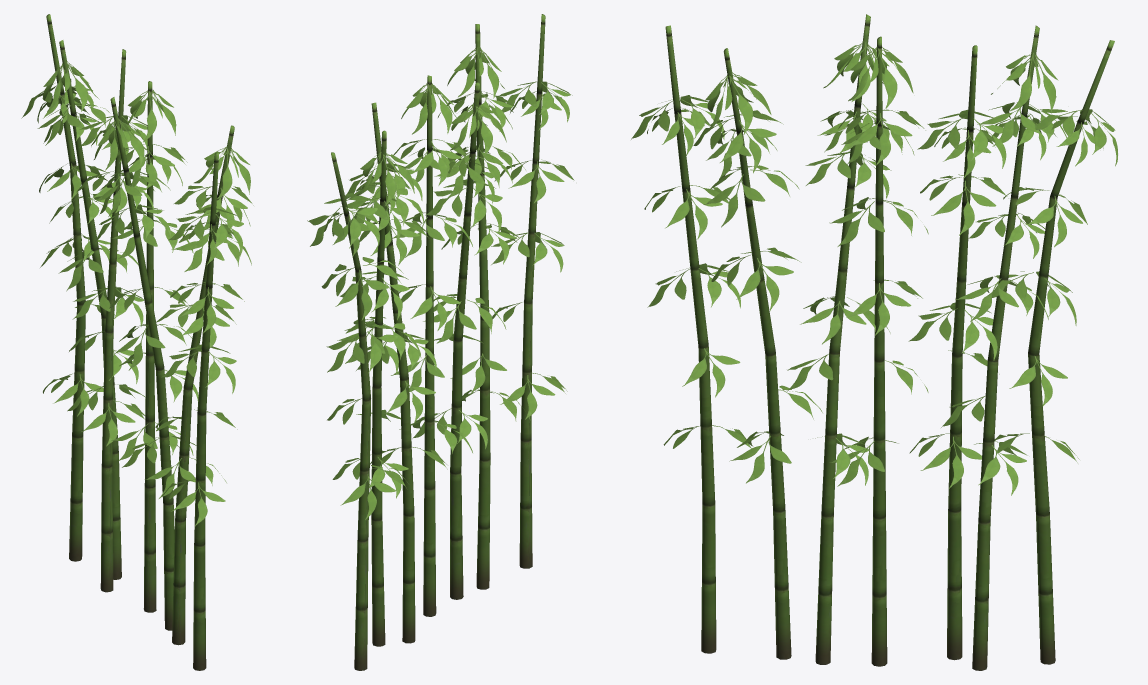
3 renders of one model, left to right at view 1: azimuth 30°, elevation 25°; view 2: azimuth 150°, elevation 25°; view 3: azimuth 270°, elevation 25°, orthographic. The views are drawn at different scales.
Parts seen in each view (by area): view 1: body0_model0_lod0_mesh0, body0_model0_lod0_mesh1; view 2: body0_model0_lod0_mesh0, body0_model0_lod0_mesh1; view 3: body0_model0_lod0_mesh0, body0_model0_lod0_mesh1.
Boxes of the visible parts, left/top/right/bottom form: body0_model0_lod0_mesh0: left=46, top=14, right=234, bottom=670; body0_model0_lod0_mesh1: left=21, top=61, right=253, bottom=526; body0_model0_lod0_mesh0: left=331, top=14, right=545, bottom=670; body0_model0_lod0_mesh1: left=307, top=47, right=574, bottom=519; body0_model0_lod0_mesh0: left=665, top=14, right=1114, bottom=670; body0_model0_lod0_mesh1: left=631, top=41, right=1117, bottom=495.
Bounding box in the file's own units: 59.93 × 240 × 179.
2 materials, 2 textured.
